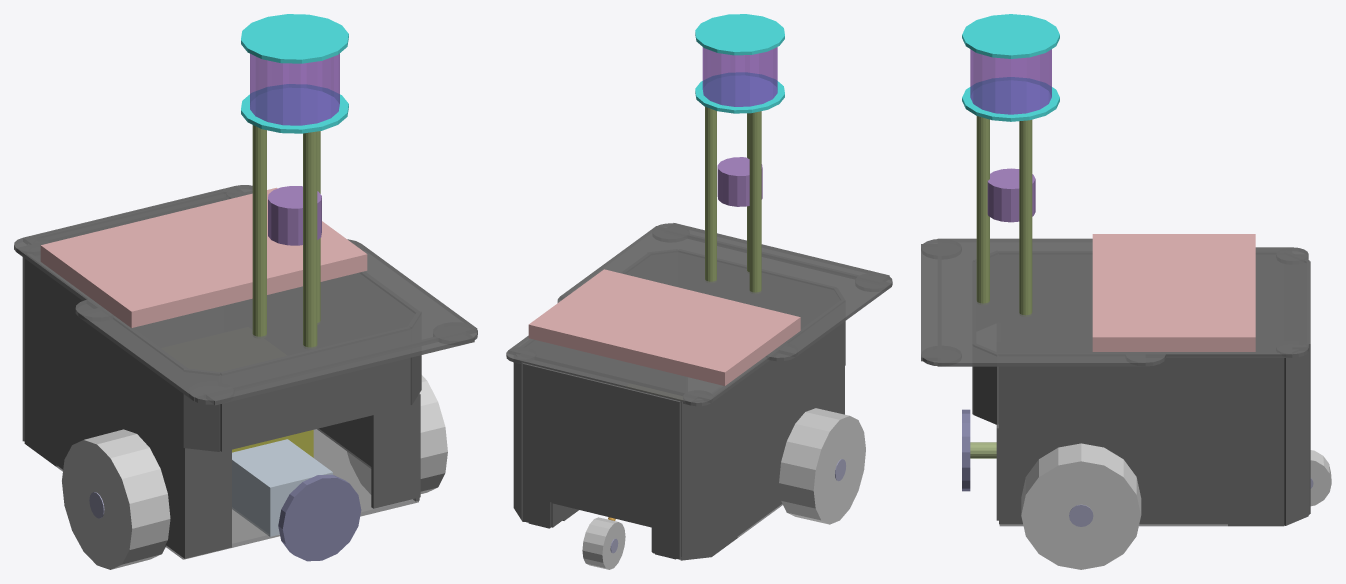
File: singlecar.dae
The picture shows the model from 3 angles, left to right: view 1: azimuth 30°, elevation 25°; view 2: azimuth 150°, elevation 25°; view 3: azimuth 270°, elevation 25°; orthographic projection. The views are drawn at different scales.
Parts seen in each view (by area): view 1: ShapeBox_010, ShapeBox_030, ShapeBox, ShapeCylinder, ShapeBox_006, ShapeCylinder_017, ShapeCylinder_011, ShapeBox_018, ShapeBox_019, ShapeBox_020, ShapeCylinder_016, ShapeCylinder_015 (+15 smaller); view 2: ShapeBox_007, ShapeBox_030, ShapeBox, ShapeBox_010, ShapeCylinder, ShapeBox_004, ShapeBox_008, ShapeCylinder_017, ShapeCylinder_016, ShapeCylinder_015, ShapeCylinder_013, ShapeBox_011 (+9 smaller); view 3: ShapeBox_001, ShapeBox_030, ShapeBox_010, ShapeCylinder_001, ShapeBox_008, ShapeCylinder_017, ShapeBox_005, ShapeCylinder_016, ShapeCylinder_015, ShapeCylinder_014, ShapeCylinder_012, ShapeBox_011 (+8 smaller).
Boxes of the visible parts, box(x1,y1,x2,y2) form: ShapeBox_010: box(78, 243, 477, 401); ShapeBox_030: box(40, 187, 367, 327); ShapeBox: box(24, 254, 186, 557); ShapeCylinder: box(62, 429, 170, 569); ShapeBox_006: box(220, 327, 410, 451); ShapeCylinder_017: box(250, 53, 339, 125); ShapeCylinder_011: box(278, 474, 361, 561); ShapeBox_018: box(232, 439, 332, 536); ShapeBox_019: box(183, 448, 231, 558); ShapeBox_020: box(371, 393, 420, 508); ShapeCylinder_016: box(241, 14, 348, 63); ShapeCylinder_015: box(241, 84, 348, 133); ShapeBox_007: box(522, 363, 680, 533); ShapeBox_030: box(528, 269, 800, 385); ShapeBox: box(711, 301, 843, 554); ShapeBox_010: box(560, 226, 891, 356); ShapeCylinder: box(779, 408, 865, 524); ShapeBox_004: box(681, 399, 711, 559); ShapeBox_008: box(508, 335, 778, 402); ShapeCylinder_017: box(702, 47, 777, 106); ShapeCylinder_016: box(695, 14, 784, 55); ShapeCylinder_015: box(695, 72, 784, 113); ShapeCylinder_013: box(749, 111, 761, 293); ShapeBox_011: box(665, 223, 889, 281); ShapeBox_001: box(999, 353, 1284, 524); ShapeBox_030: box(1092, 234, 1255, 351); ShapeBox_010: box(937, 238, 1145, 366); ShapeCylinder_001: box(1021, 443, 1141, 569); ShapeBox_008: box(1145, 247, 1292, 357); ShapeCylinder_017: box(970, 49, 1051, 114); ShapeBox_005: box(1284, 344, 1309, 524); ShapeCylinder_016: box(962, 14, 1059, 58); ShapeCylinder_015: box(962, 77, 1059, 121); ShapeCylinder_014: box(1019, 120, 1032, 316); ShapeCylinder_012: box(976, 116, 989, 304); ShapeBox_011: box(921, 244, 941, 361).
Size of the model in its own units: 0.4074 by 0.5035 by 0.6325.
